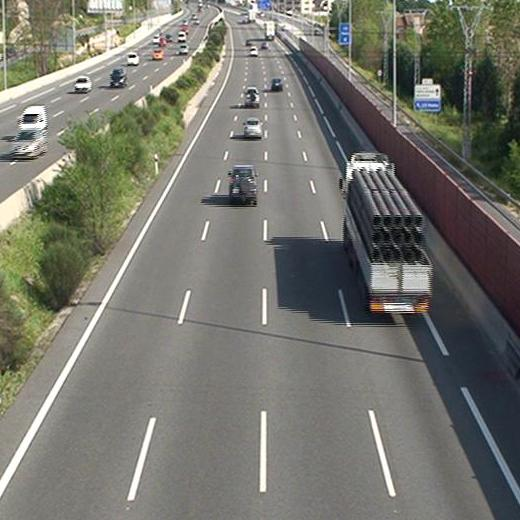car: (230, 167, 258, 198), (243, 120, 263, 137), (245, 87, 260, 105), (271, 79, 282, 91), (248, 47, 258, 56)
truck: (340, 154, 431, 313)
